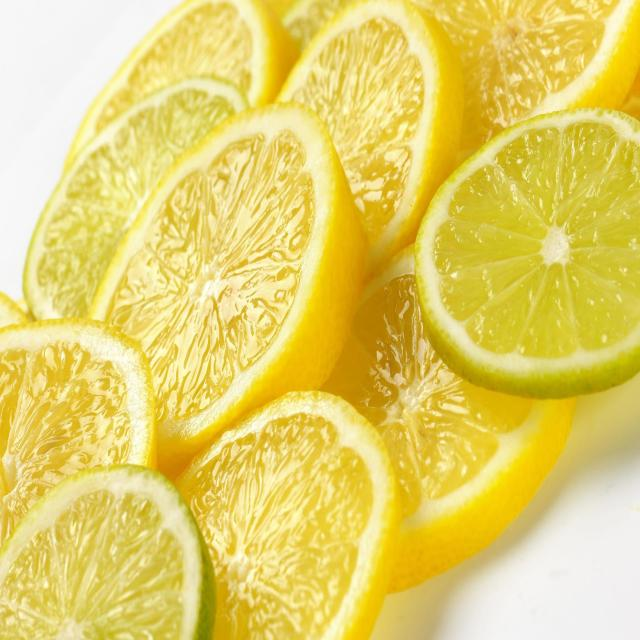lemon: (73, 94, 364, 488)
